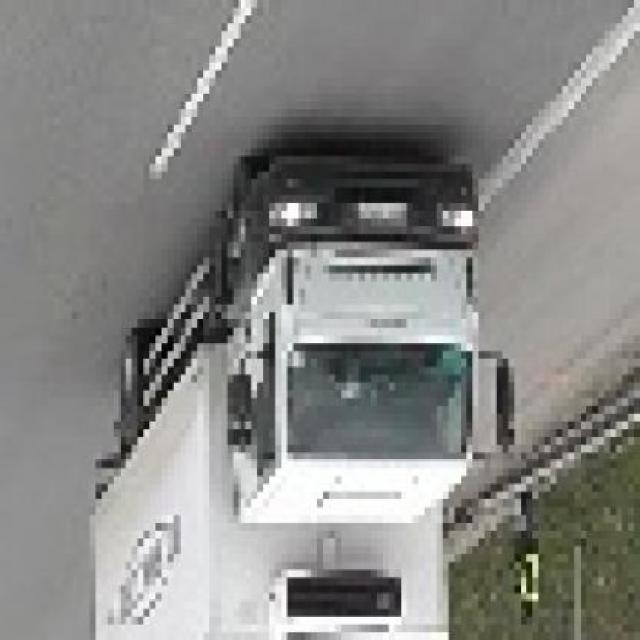truck: (84, 166, 502, 640)
